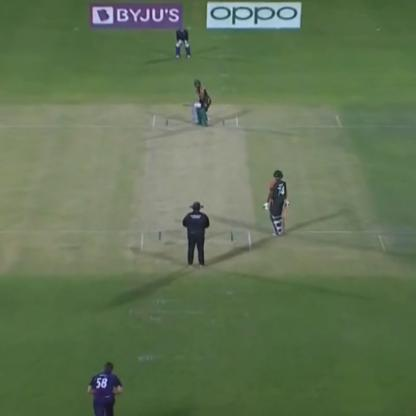pitch: (136, 116, 254, 259)
